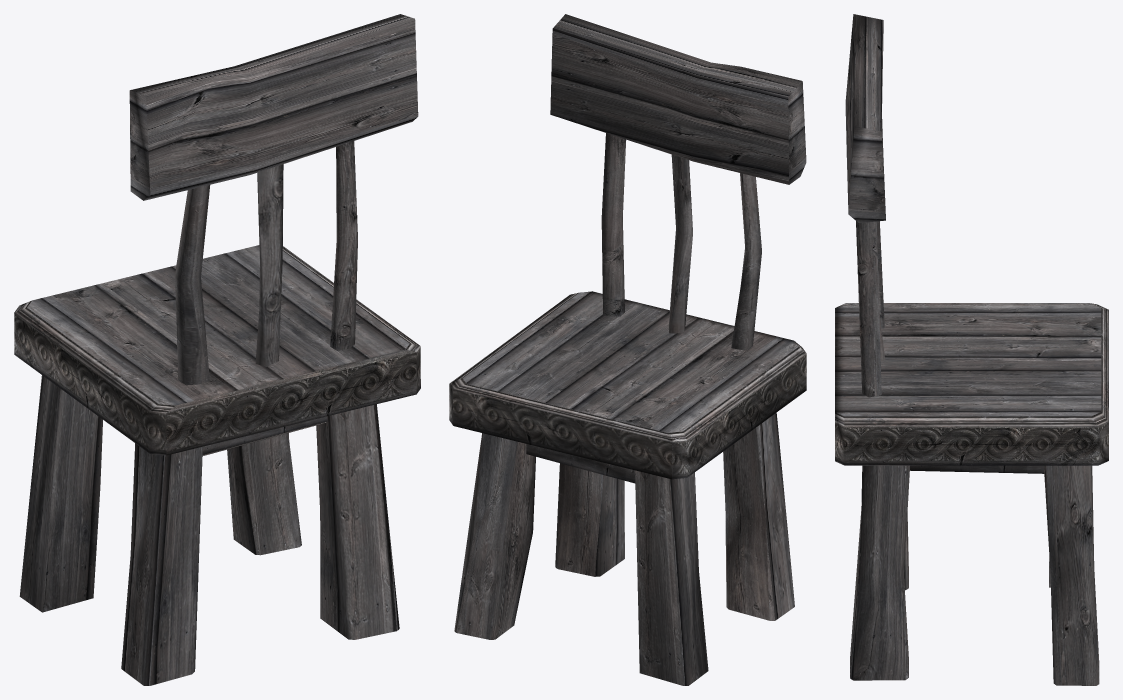
The model's file is tavern_chair3.fbx.
The picture shows the model from 3 angles, left to right: view 1: azimuth 30°, elevation 25°; view 2: azimuth 150°, elevation 25°; view 3: azimuth 270°, elevation 25°; orthographic projection. The views are drawn at different scales.
Parts seen in each view (by area): view 1: Default_Layer; view 2: Default_Layer; view 3: Default_Layer.
Part boxes in pixels (bbox=[...]): Default_Layer: bbox=[14, 14, 420, 685]; Default_Layer: bbox=[449, 14, 806, 685]; Default_Layer: bbox=[835, 14, 1108, 685].
Size of the model in its own units: 135 by 290 by 128.
1 material, 1 textured.
